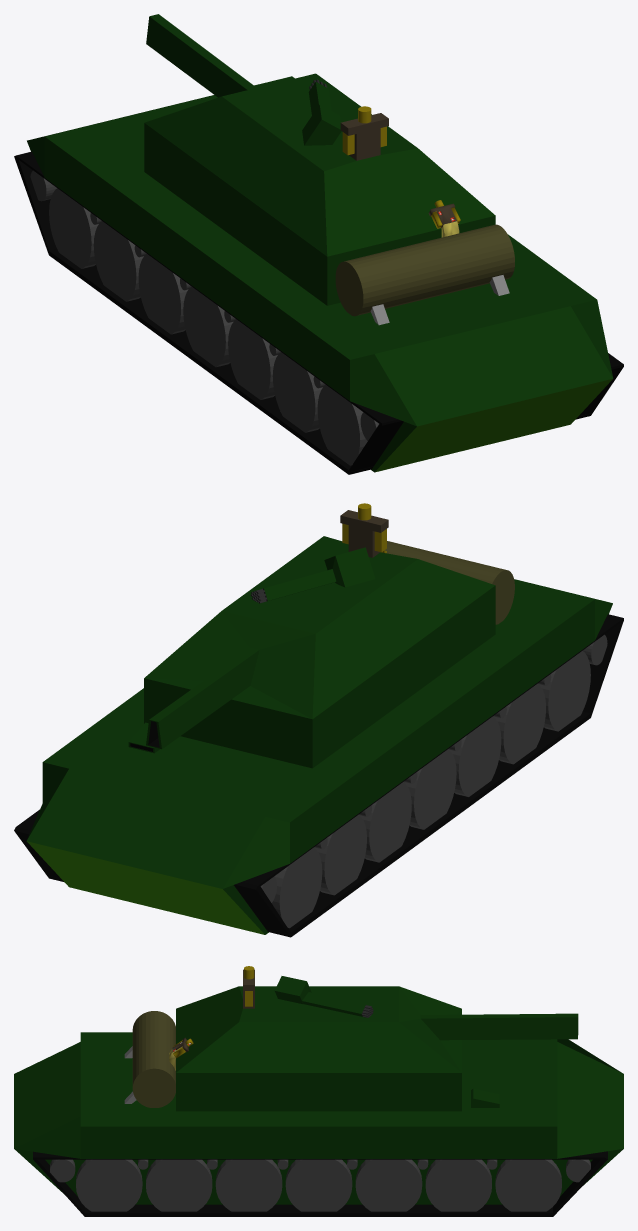
Rendered from ZombieTank.fbx.
3 renders of one model, top to bottom at view 1: azimuth 30°, elevation 25°; view 2: azimuth 150°, elevation 25°; view 3: azimuth 270°, elevation 25°, orthographic. The views are drawn at different scales.
Visible parts, largest first — view 1: Cube, Track, Circle, Circle.005, Circle.007, Circle.001, Circle.002, Circle.004, Circle.003, Cube.002; view 2: Cube, Track, Circle, Circle.001, Circle.003, Circle.005, Circle.002, Circle.004, Circle.007, Track.001; view 3: Cube, Track.001, Circle.016, Circle.020, Circle.015, Circle.018, Circle.021, Circle.017, Circle.019, Circle.022, Circle.023.
Boxes of the visible parts, x1,y1,x2,y2 form: Cube: (27,14,613,472); Track: (14,151,403,474); Circle: (183,286,233,367); Circle.005: (138,254,188,334); Circle.007: (49,188,98,268); Circle.001: (228,319,277,399); Circle.002: (272,352,322,432); Circle.004: (93,221,143,301); Circle.003: (317,385,367,465); Cube.002: (428,200,460,237); Cube: (26,503,612,934); Track: (234,614,623,937); Circle: (404,749,456,829); Circle.001: (450,716,501,796); Circle.003: (539,651,590,731); Circle.005: (360,782,411,862); Circle.002: (494,683,545,764); Circle.004: (315,814,366,895); Circle.007: (271,847,322,928); Track.001: (14,809,63,881); Cube: (14,966,623,1204); Track.001: (33,1151,607,1216); Circle.016: (215,1159,282,1211); Circle.020: (355,1159,422,1211); Circle.015: (285,1159,352,1211); Circle.018: (76,1159,142,1211); Circle.021: (495,1159,561,1211); Circle.017: (146,1159,212,1211); Circle.019: (425,1159,491,1211); Circle.022: (50,1159,75,1182); Circle.023: (566,1159,590,1182).
Size of the model in its own units: 670 by 674 by 1832.
